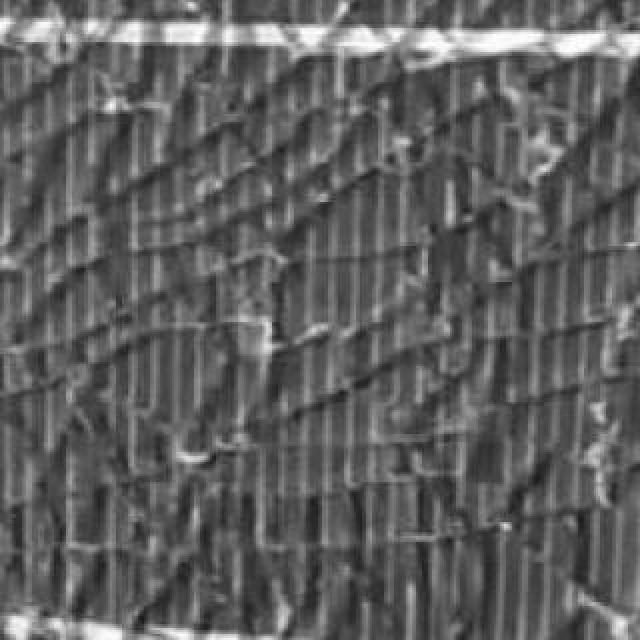Physical-damage: (3, 33, 635, 632)
